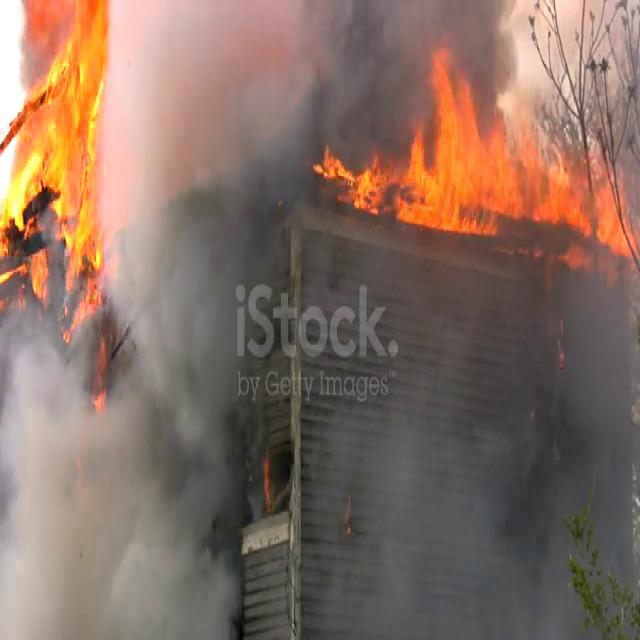fire: (350, 41, 576, 230), (20, 3, 104, 345)
smoke: (110, 26, 320, 556)
